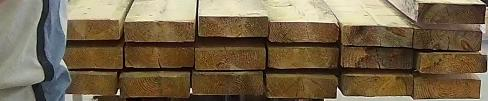Wood-Plank: (192, 71, 262, 96), (51, 70, 118, 96), (267, 74, 339, 98), (413, 74, 482, 99), (340, 73, 414, 96), (342, 46, 412, 70), (51, 46, 123, 69), (268, 46, 339, 69), (414, 26, 482, 50), (119, 75, 189, 98), (124, 45, 194, 68), (417, 52, 488, 74), (195, 48, 265, 70), (342, 24, 412, 45), (52, 19, 118, 41), (417, 3, 485, 24), (199, 16, 268, 36), (125, 21, 194, 41), (271, 22, 337, 42)
